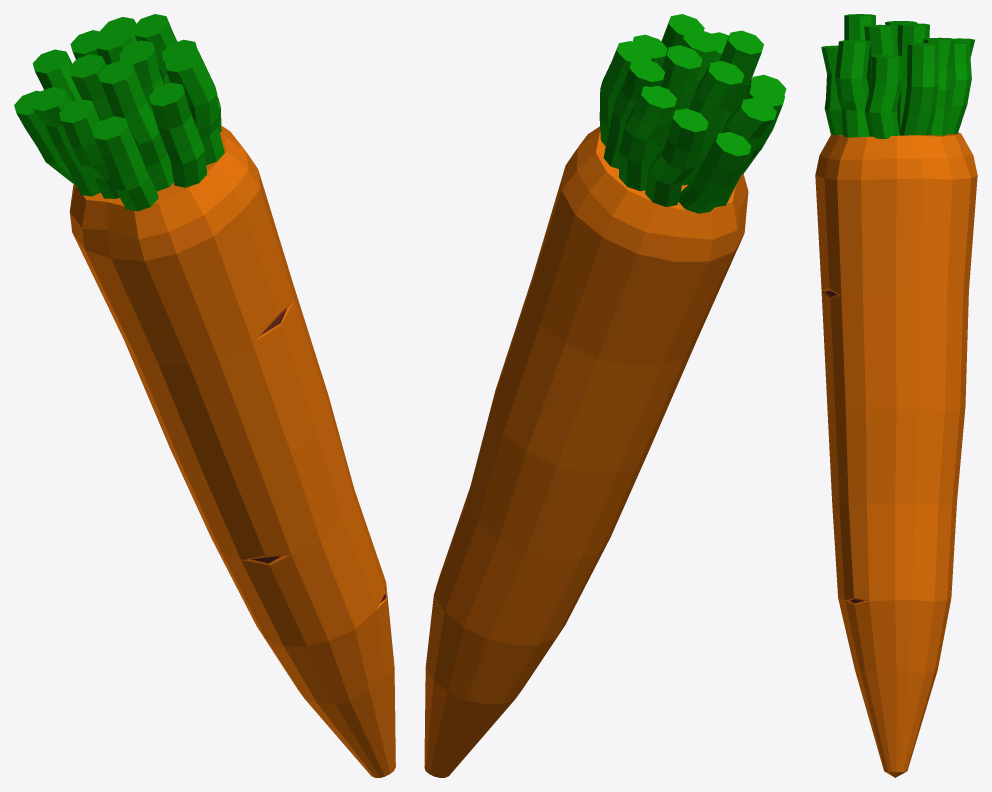
File: carrots.fbx
3 renders of one model, left to right at view 1: azimuth 30°, elevation 25°; view 2: azimuth 150°, elevation 25°; view 3: azimuth 270°, elevation 25°, orthographic. The views are drawn at different scales.
Visible parts, largest first — view 1: carrots; view 2: carrots; view 3: carrots.
Boxes of the visible parts, x1,y1,x2,y2 form: carrots: (14, 14, 395, 777); carrots: (424, 14, 786, 777); carrots: (815, 14, 977, 777).
Size of the model in its own units: 1.62 by 3.49 by 0.7846.
